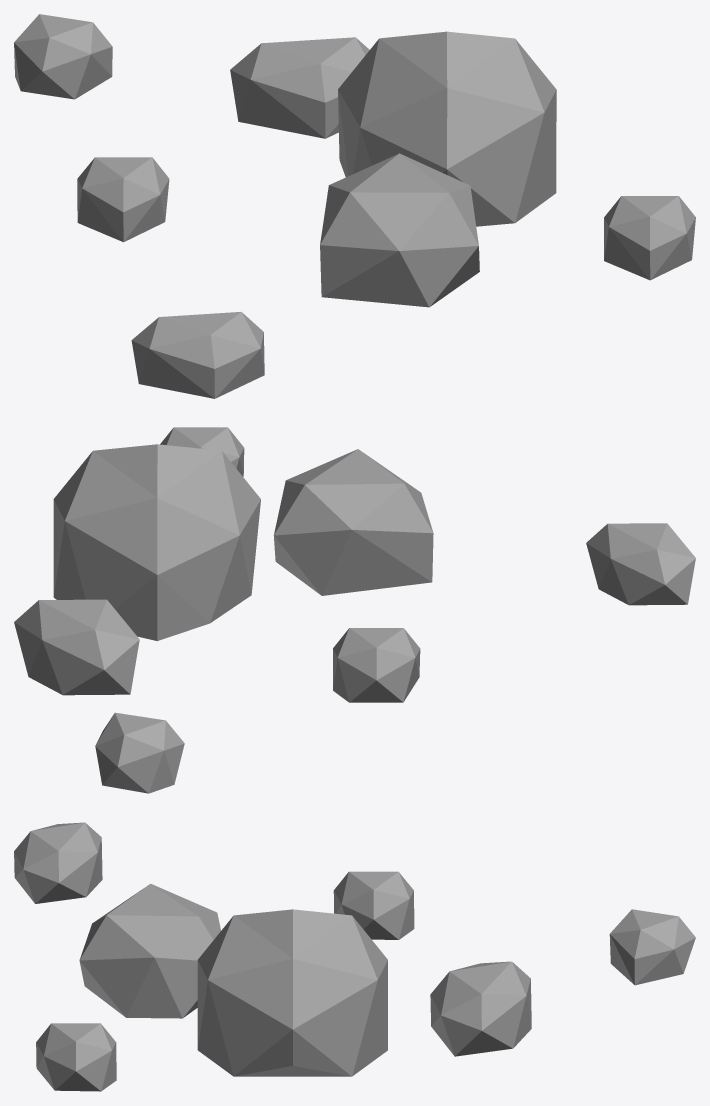
File: SM_Stone_01.fbx
3 renders of one model, top to bottom at view 1: azimuth 30°, elevation 25°; view 2: azimuth 150°, elevation 25°; view 3: azimuth 270°, elevation 25°, orthographic. The views are drawn at different scales.
Visible parts, largest first — view 1: SM_Stone_01; view 2: SM_Stone_01; view 3: SM_Stone_01.
Boxes of the visible parts, left/top/right/bottom form: SM_Stone_01: left=14, top=14, right=695, bottom=398; SM_Stone_01: left=14, top=427, right=695, bottom=793; SM_Stone_01: left=14, top=822, right=695, bottom=1091.
Size of the model in its own units: 61.47 by 16.31 by 74.59.
